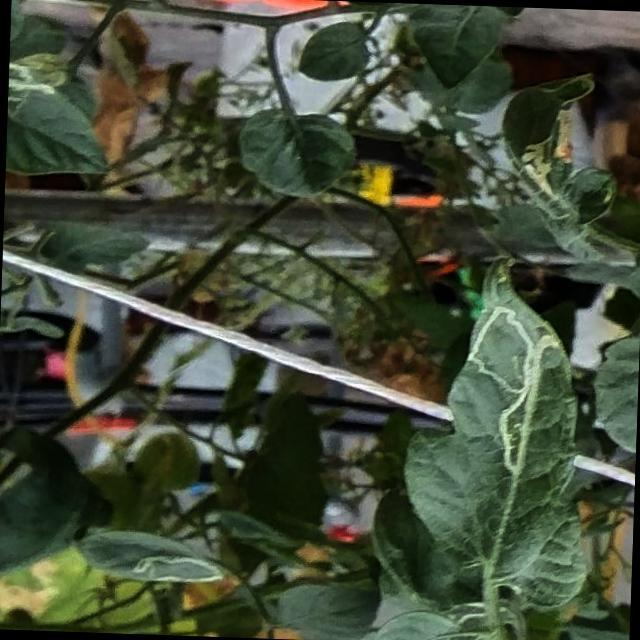Tomato target spot leaf: (402, 248, 604, 612), (495, 66, 640, 265), (5, 56, 113, 180), (71, 526, 232, 588)
